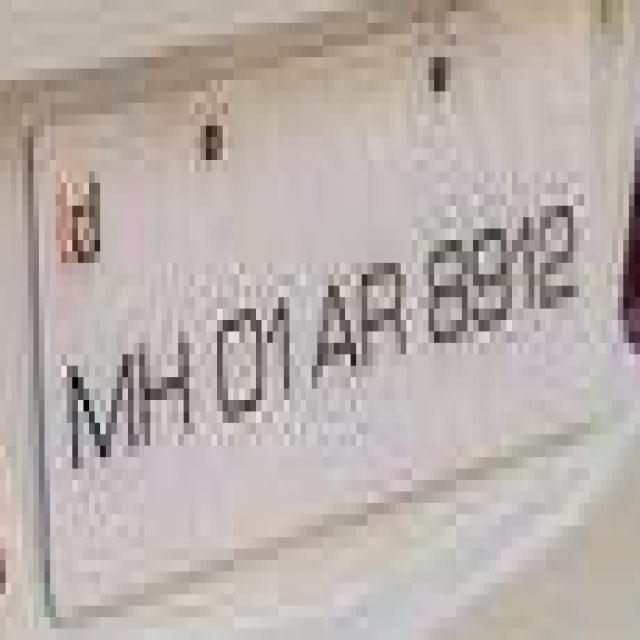license_plate: (22, 103, 640, 503)
